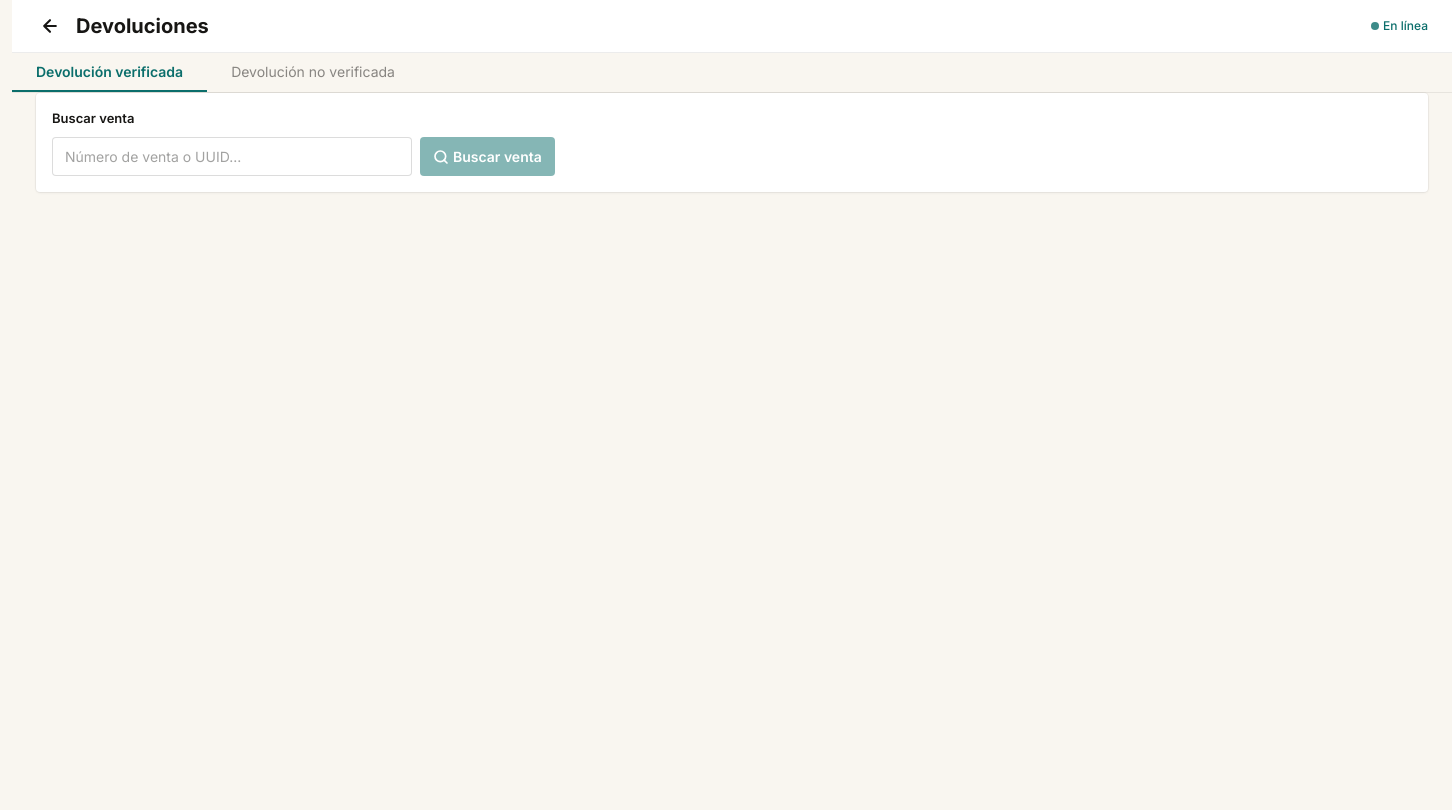
Test: ReturnsPage › RETP-04: create verified return › shows a success toast after a successful return
Type "42" into the field with placeholder "Número de venta o UUID..." at [232, 156], box [52, 136, 412, 176]
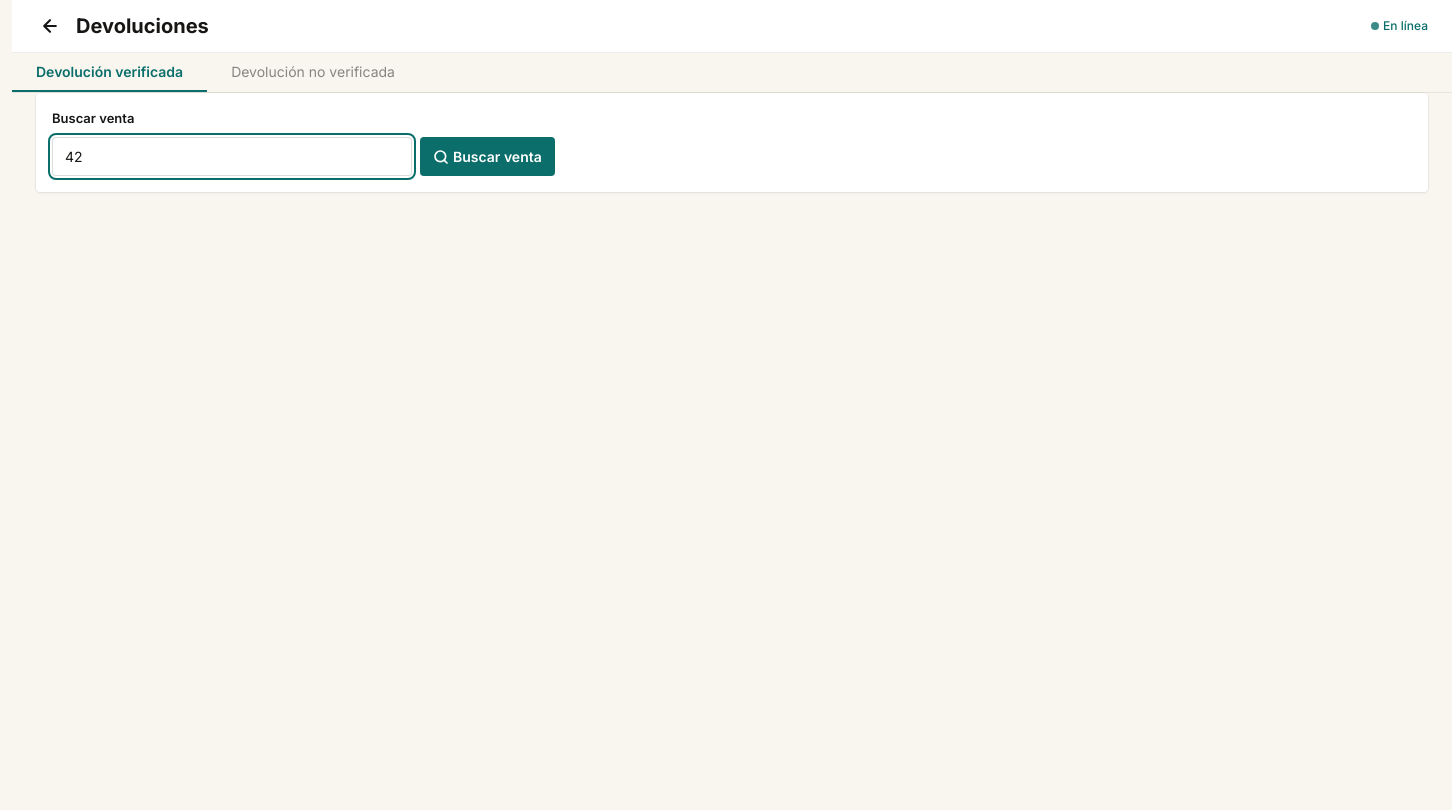
Click the button "Buscar venta" at [487, 156], box [420, 136, 555, 176]
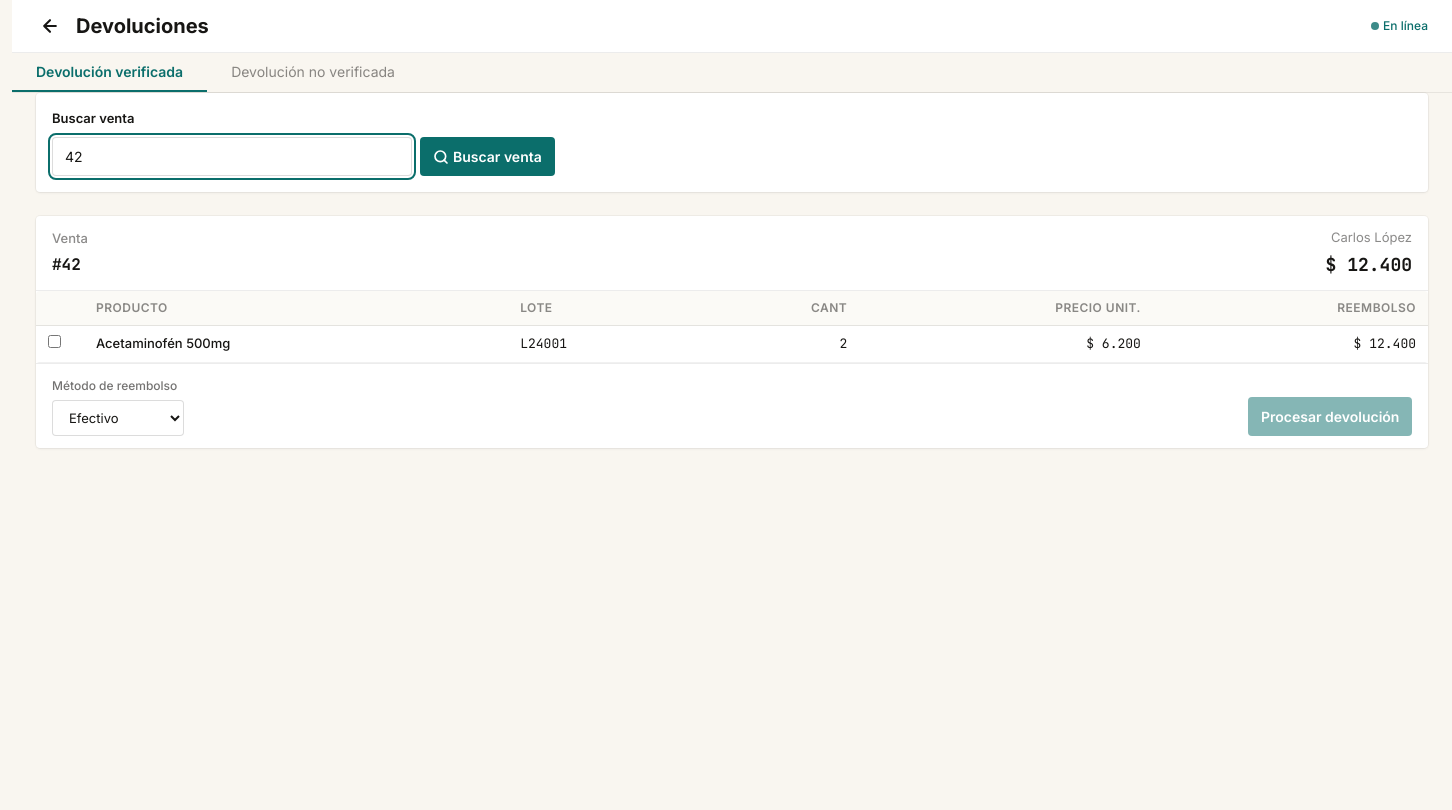
Result: the text "Acetaminofén 500mg" is shown at [84, 326, 508, 362]
Result: the checkbox named "Acetaminofén" is shown
Click the checkbox named "Acetaminofén" at [54, 342], box [48, 335, 61, 348]
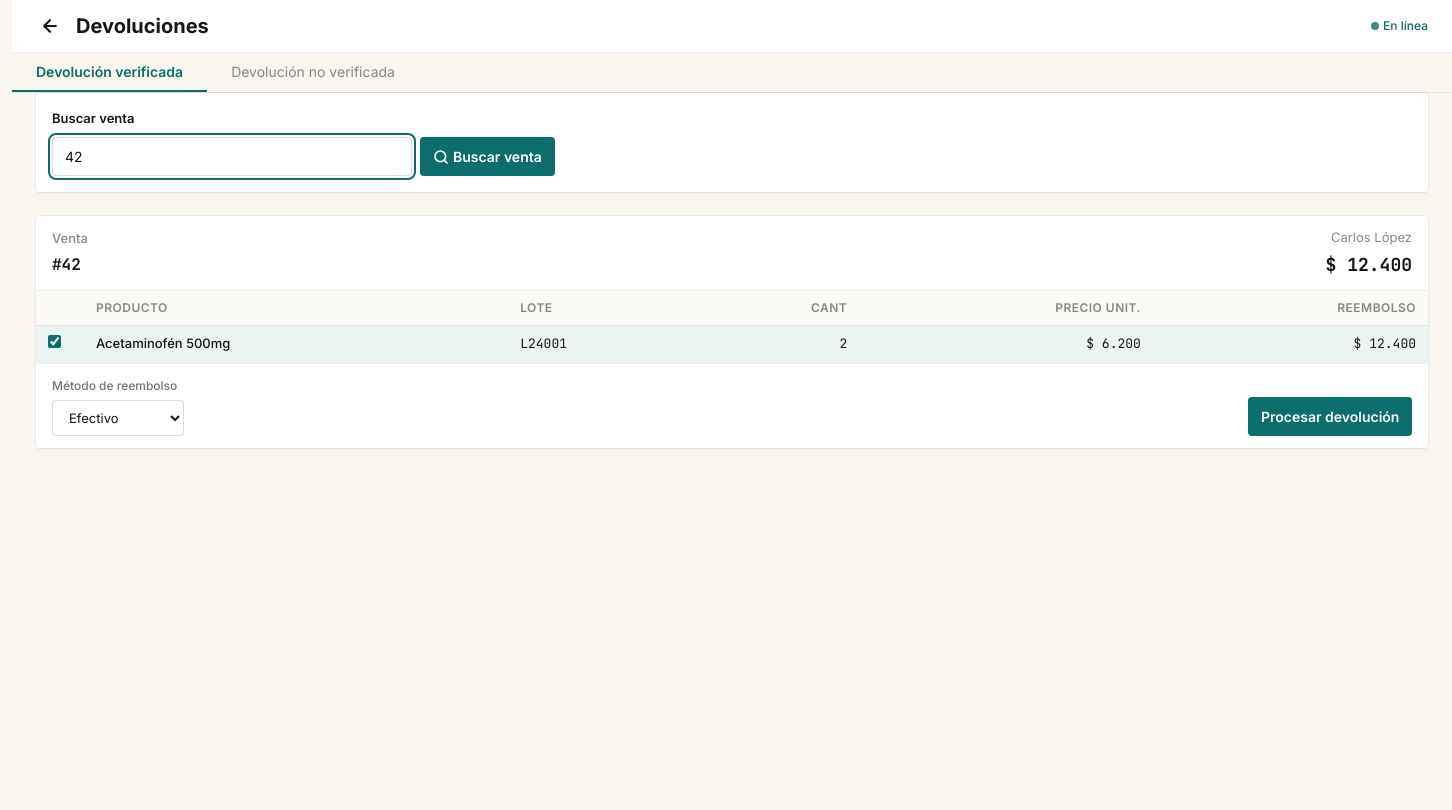
Click the button "Procesar devolución" at [1330, 416], box [1248, 396, 1412, 436]
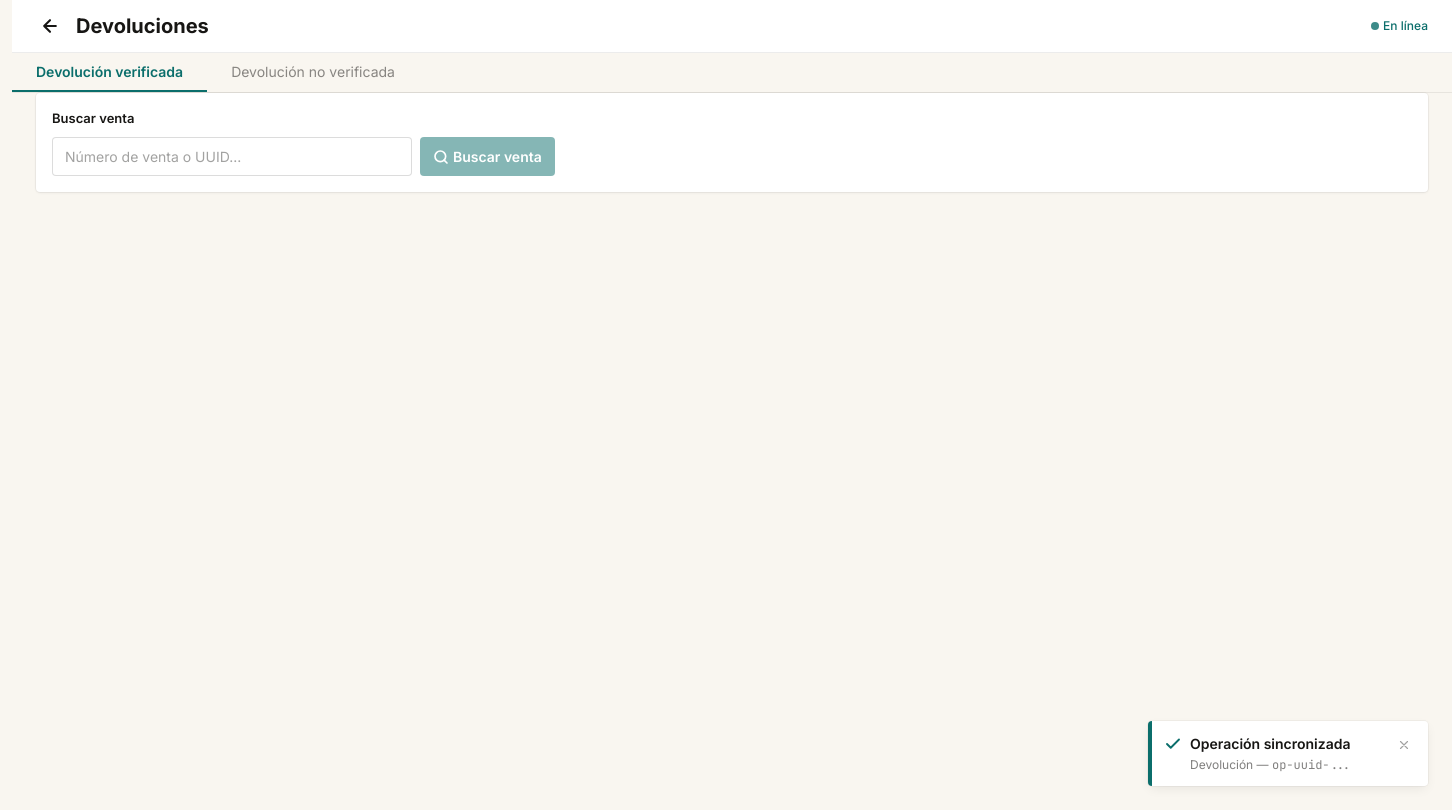
Result: the message "Operación sincronizada Devolución — op-uuid-..." is shown at [1148, 721, 1428, 786]
